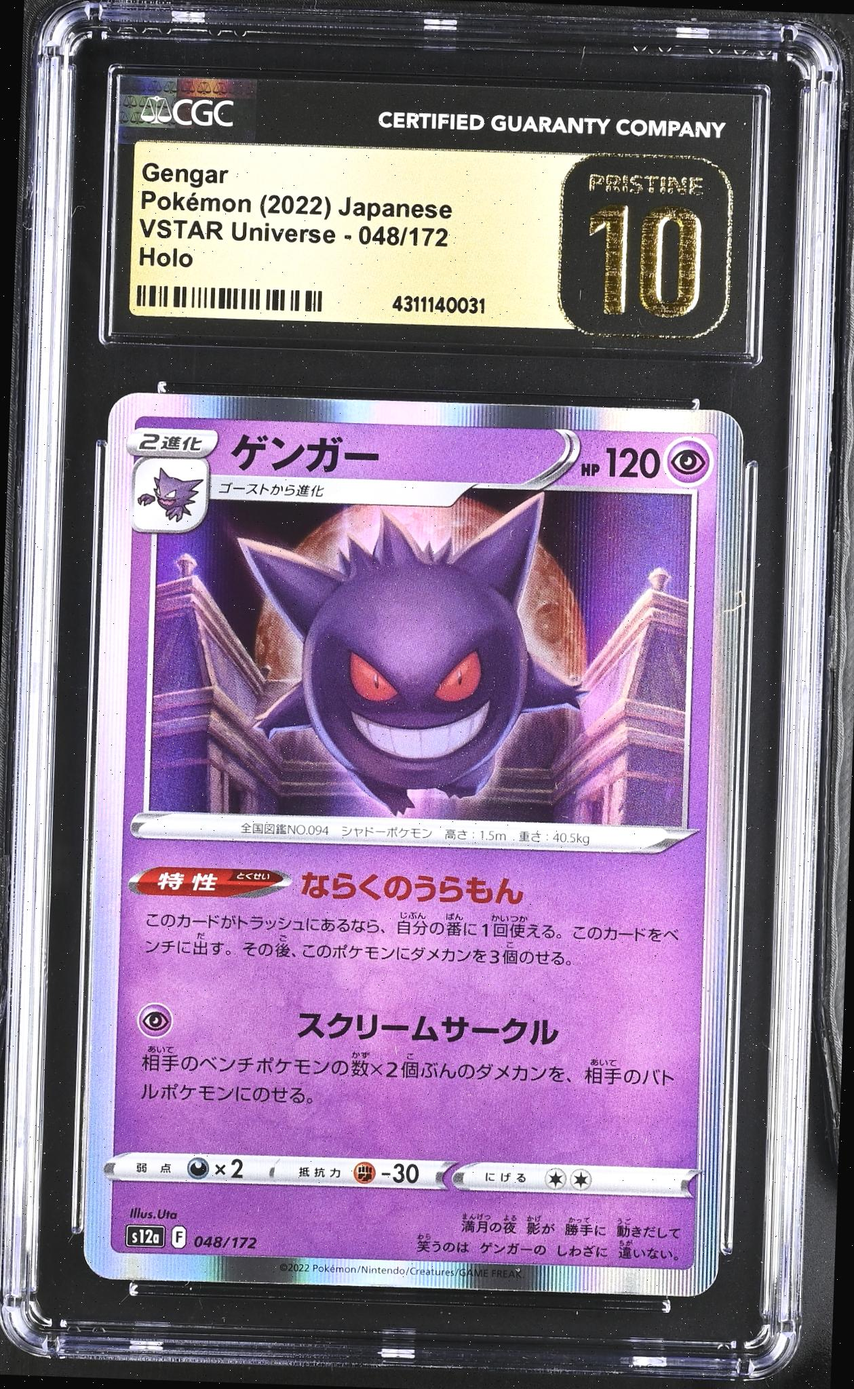card-2UtV: (83, 392, 744, 1297)
